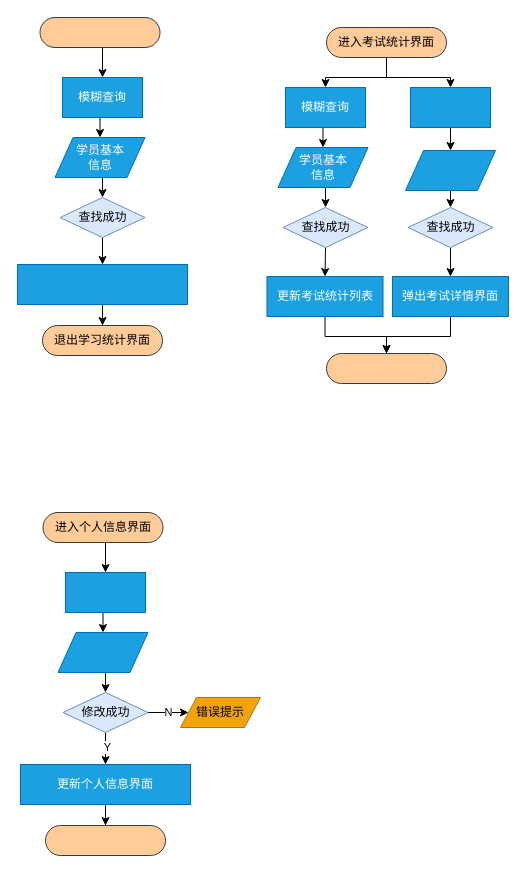
The diagram is 526 pixels wide and 881 high, and some of its shapes have lost their labels. The shapes that lost their labels are listed below. From the top down, each one's centre as x and y in pixels, then its label:
pixel 99 32: 进入学习统计界面
pixel 450 107: 考试详情
pixel 450 170: 学员编号
pixel 102 284: 更新学习统计列表
pixel 386 368: 退出考试统计界面
pixel 105 592: 修改信息
pixel 102 652: 账号基本 信息
pixel 105 840: 退出个人信息界面
